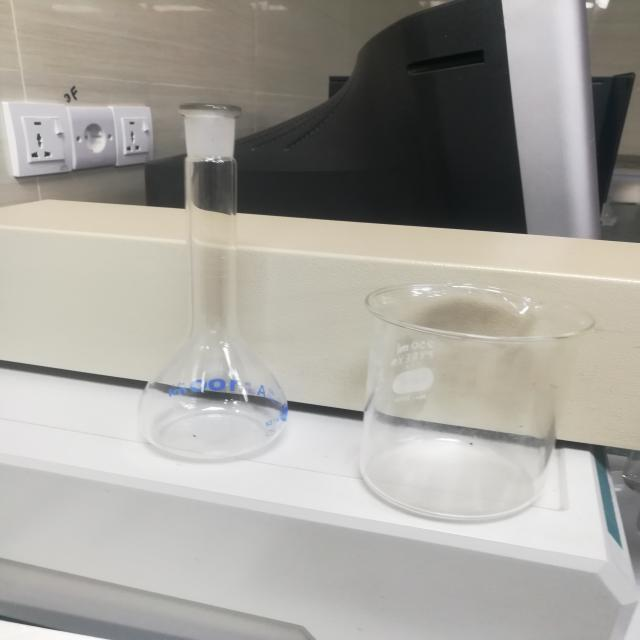Beaker: (342, 244, 585, 546)
Volumetric_Flask: (112, 78, 292, 475)
